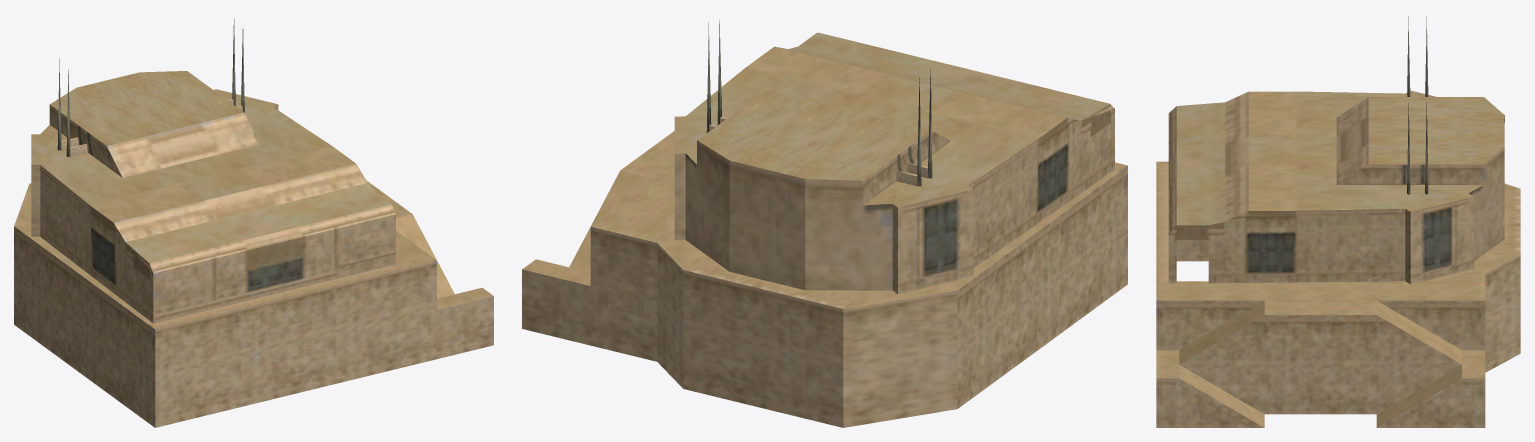
The model's file is ply_tato_hospital_s01_r0_exterior_mesh_l2.fbx.
The picture shows the model from 3 angles, left to right: view 1: azimuth 30°, elevation 25°; view 2: azimuth 150°, elevation 25°; view 3: azimuth 270°, elevation 25°; orthographic projection. The views are drawn at different scales.
Visible parts, largest first — view 1: mesh_node; view 2: mesh_node; view 3: mesh_node.
Part boxes in pixels (x1,y1,x2,y2): mesh_node: (14, 18, 493, 427); mesh_node: (522, 20, 1127, 427); mesh_node: (1156, 16, 1520, 427).
Size of the model in its own units: 24.65 by 18.35 by 22.78.
Materials: 1 (1 with a texture image).
